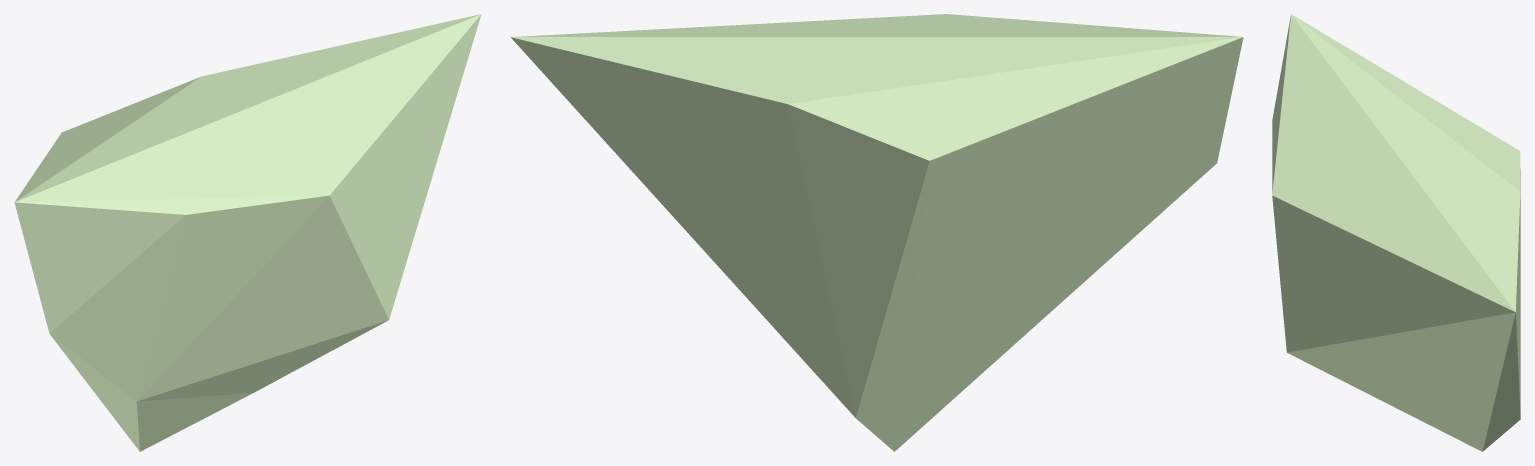
The model's file is kuka_robot_base_coll_12.dae.
3 renders of one model, left to right at view 1: azimuth 30°, elevation 25°; view 2: azimuth 150°, elevation 25°; view 3: azimuth 270°, elevation 25°, orthographic. The views are drawn at different scales.
Visible parts, largest first — view 1: Node_0000015C5C914970; view 2: Node_0000015C5C914970; view 3: Node_0000015C5C914970.
Part boxes in pixels (x1=…): Node_0000015C5C914970: x1=14, y1=14, x2=481, y2=451; Node_0000015C5C914970: x1=510, y1=14, x2=1243, y2=451; Node_0000015C5C914970: x1=1272, y1=14, x2=1520, y2=451.
Bounding box in the file's own units: 0.0314 × 0.0195 × 0.013.
